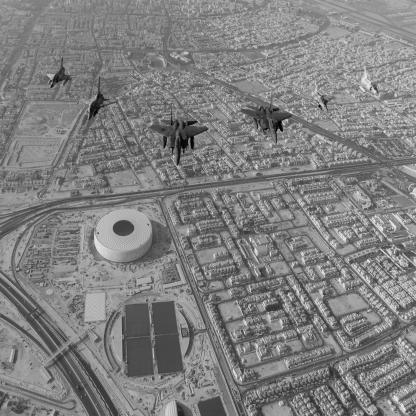F15: (150, 100, 210, 167), (241, 89, 294, 145)
Mirage2000: (48, 57, 77, 90), (353, 67, 380, 97)
Rafale: (78, 77, 119, 122), (299, 76, 336, 115)
